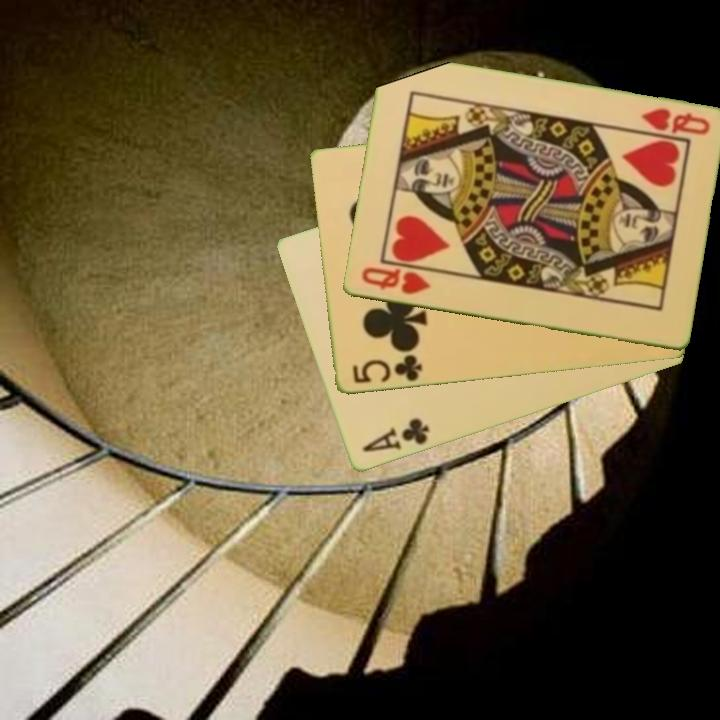5c: (349, 351, 425, 387)
Ac: (359, 415, 432, 456)
Qh: (357, 264, 433, 298), (637, 105, 713, 138)
